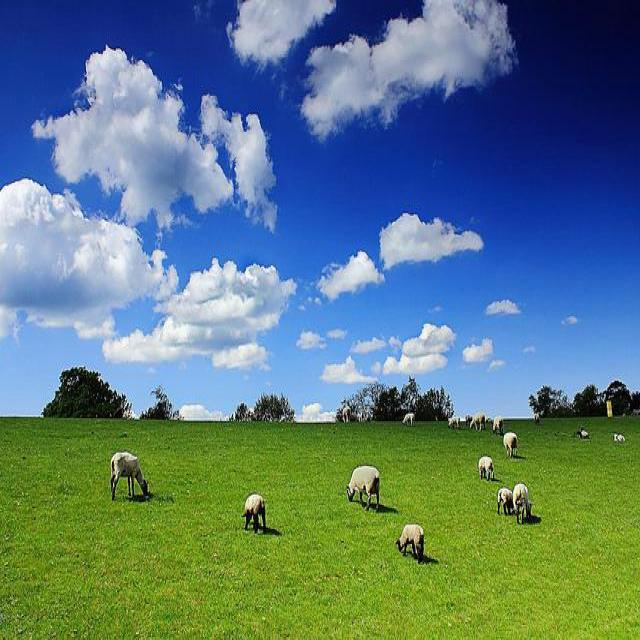Sheep: (110, 453, 151, 502)
